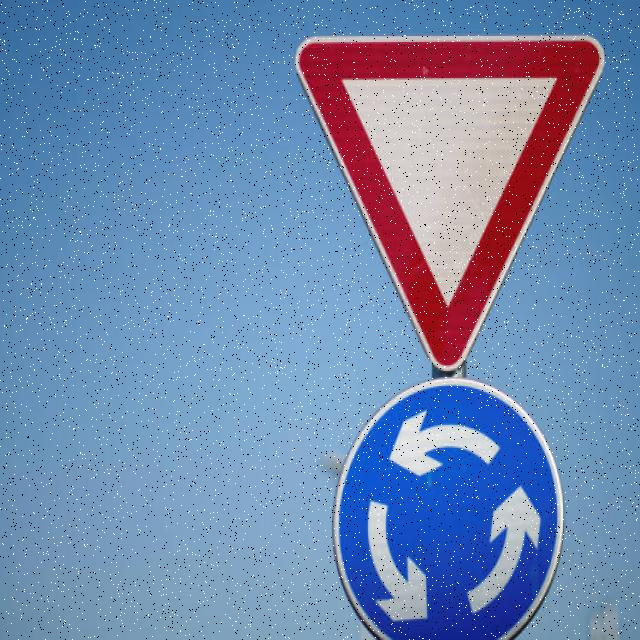round_about: (328, 371, 564, 640)
